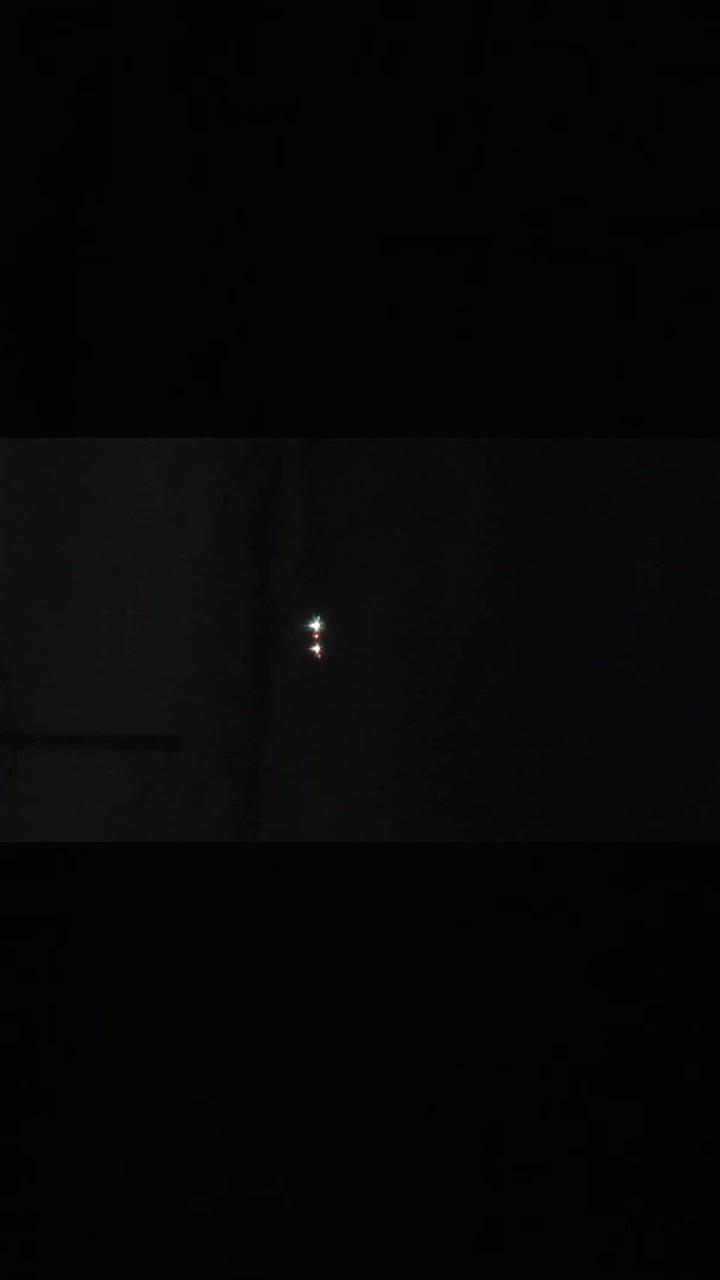Plane: (283, 581, 351, 688)
